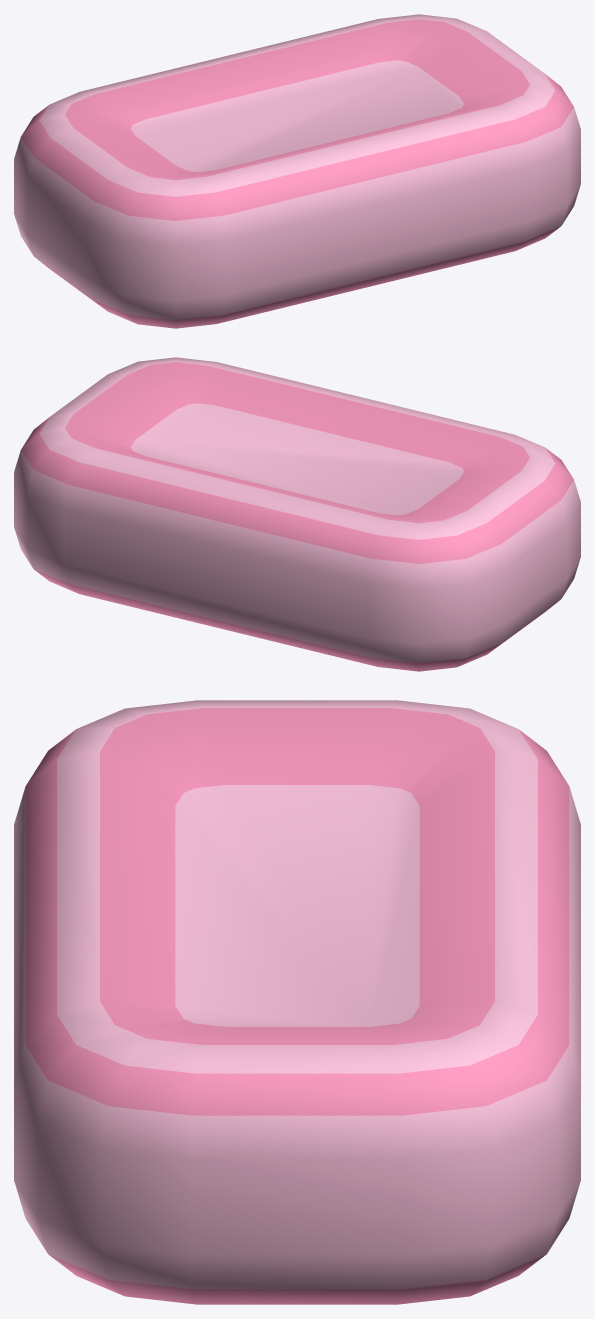
The model's file is Prop_Soup.fbx.
The picture shows the model from 3 angles, top to bottom: view 1: azimuth 30°, elevation 25°; view 2: azimuth 150°, elevation 25°; view 3: azimuth 270°, elevation 25°; orthographic projection. The views are drawn at different scales.
Visible parts, largest first — view 1: Prop_Soup; view 2: Prop_Soup; view 3: Prop_Soup.
Boxes of the visible parts, x1=… form: Prop_Soup: x1=14, y1=14, x2=580, y2=328; Prop_Soup: x1=14, y1=357, x2=580, y2=671; Prop_Soup: x1=14, y1=700, x2=580, y2=1304.
Size of the model in its own units: 16.09 by 4.61 by 9.41.
